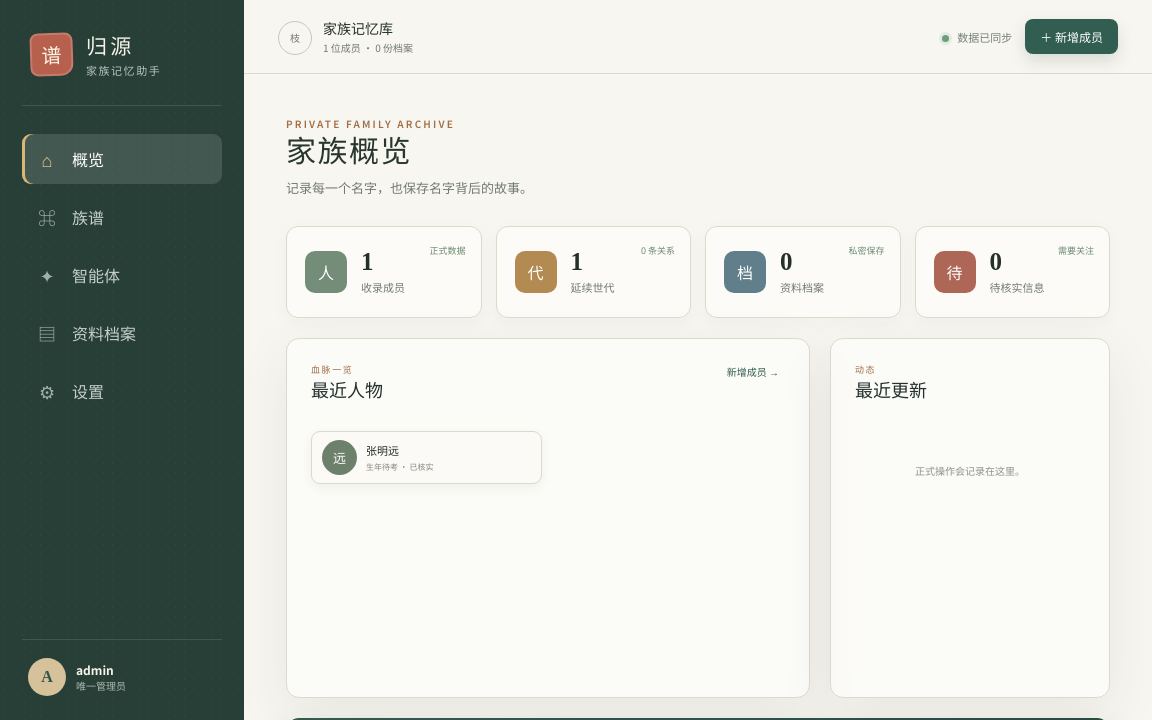
Scenario: 归源家族记忆助手 › 聊天页展示 API 返回的确定性关系和来源
The width and height of the screenshot is (1152, 720).
Click the button "✦ 智能体".
click(122, 275)  # box [22,250,222,300]
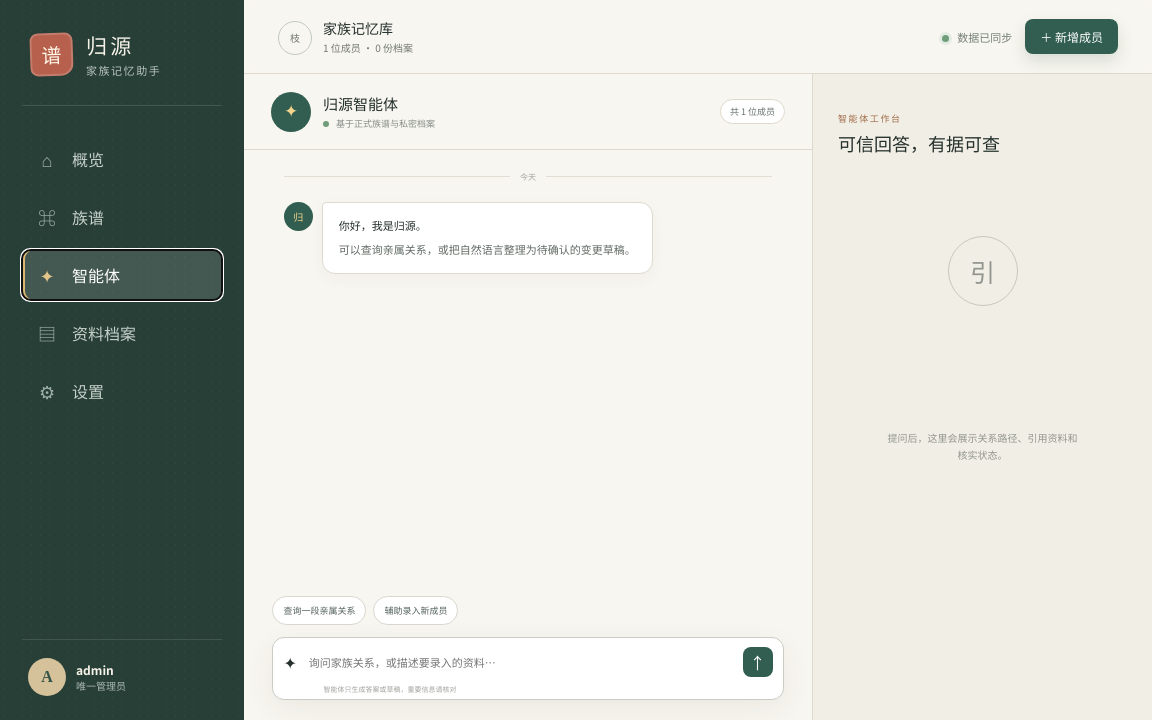
Type "张明远的外祖父是谁？" into the field named "向归源提问".
click(520, 662); type("张明远的外祖父是谁？")  # box [305,650,735,674]
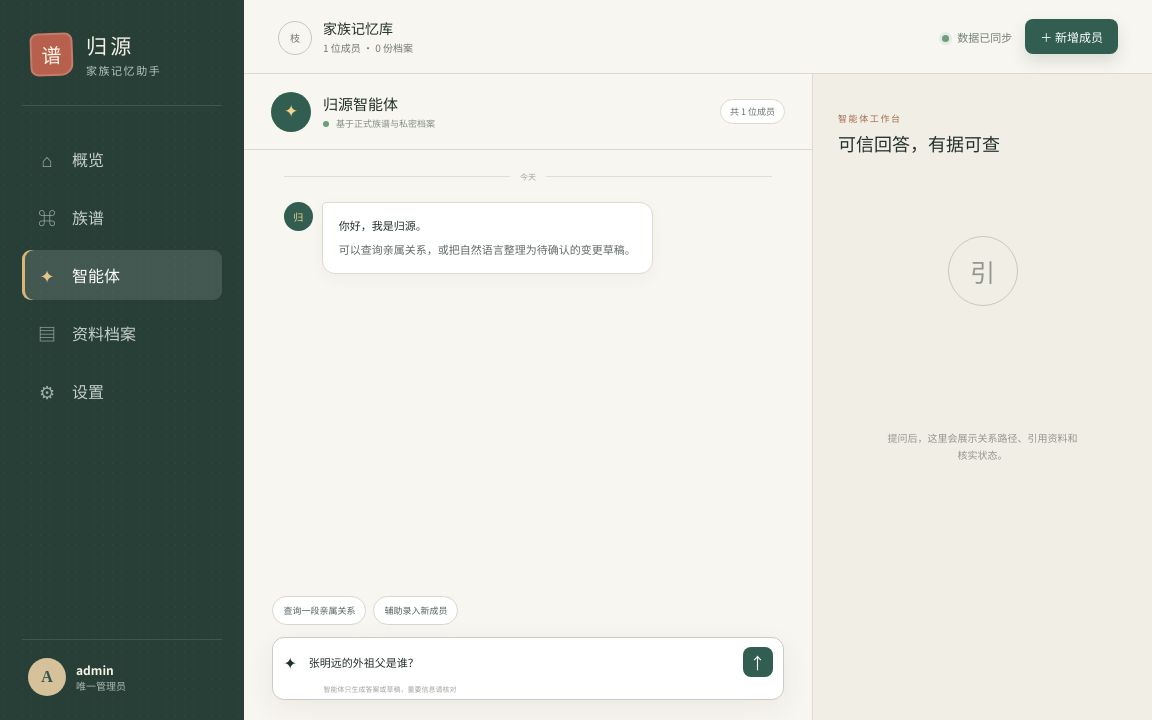
Click the button named "发送".
click(758, 662)  # box [743,647,773,677]
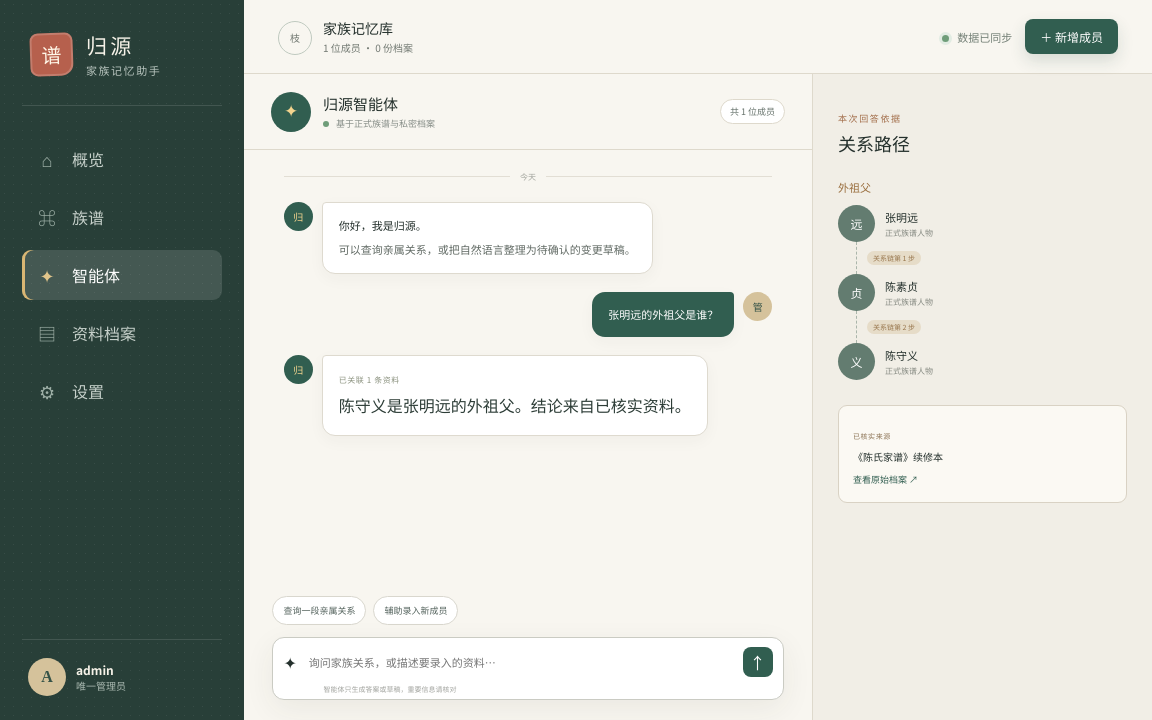
expect the text "陈守义是张明远的外祖父。结论来自已核实资料。" is shown: met, box [339,395,691,419]
expect the heading "关系路径" is shown: met, box [838,135,910,155]
expect the text "《陈氏家谱》续修本" is shown: met, box [853,452,943,463]
